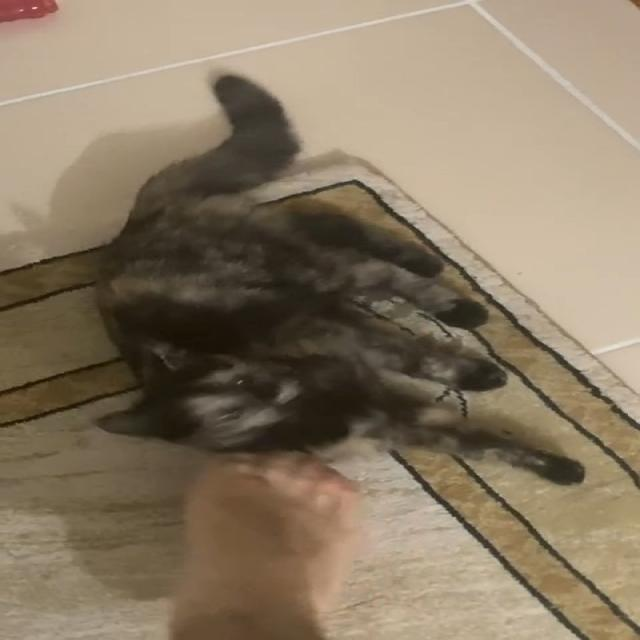authorized: (88, 70, 585, 487)
